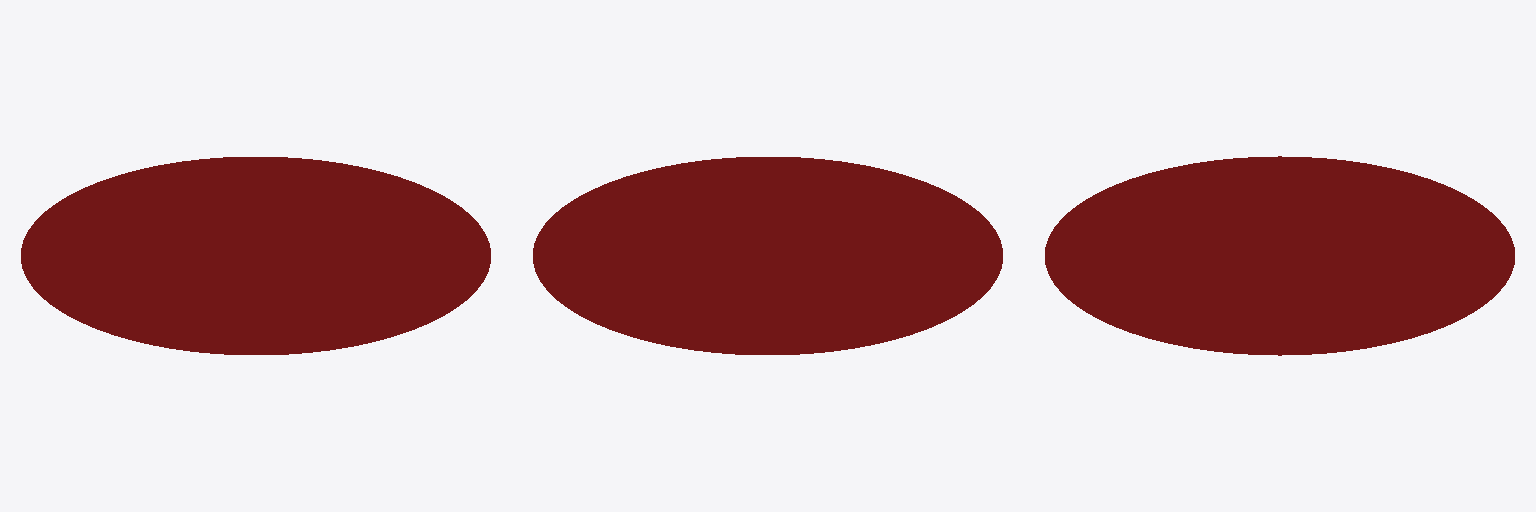
Rendered from plane-parallel.obj.
The picture shows the model from 3 angles: view 1: azimuth 30°, elevation 25°; view 2: azimuth 150°, elevation 25°; view 3: azimuth 270°, elevation 25°; orthographic projection.
Parts seen in each view (by area): view 1: Circle; view 2: Circle; view 3: Circle.
Part boxes in pixels (left/top/right/bottom): Circle: left=21, top=157, right=490, bottom=354; Circle: left=533, top=157, right=1002, bottom=354; Circle: left=1045, top=156, right=1514, bottom=355.
Bounding box in the file's own units: 14 × 0 × 14.